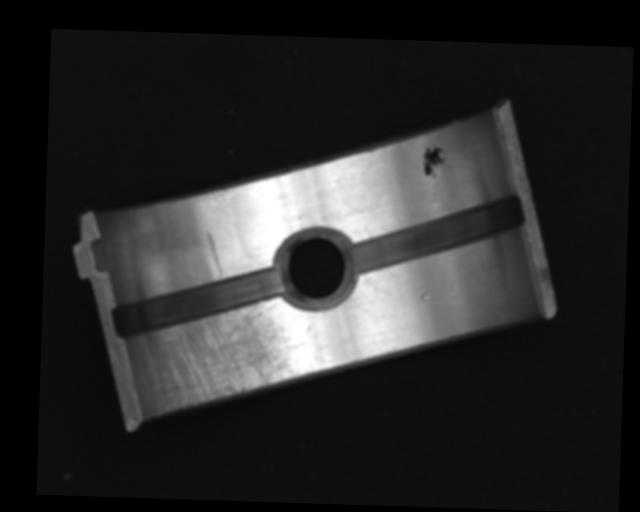blot: (421, 139, 449, 178)
bruise: (417, 292, 431, 301)
gap: (344, 187, 525, 280), (111, 261, 285, 344)
hole: (274, 230, 358, 310)
nick: (202, 230, 225, 281), (344, 295, 376, 320)
scratch: (139, 298, 306, 422)
